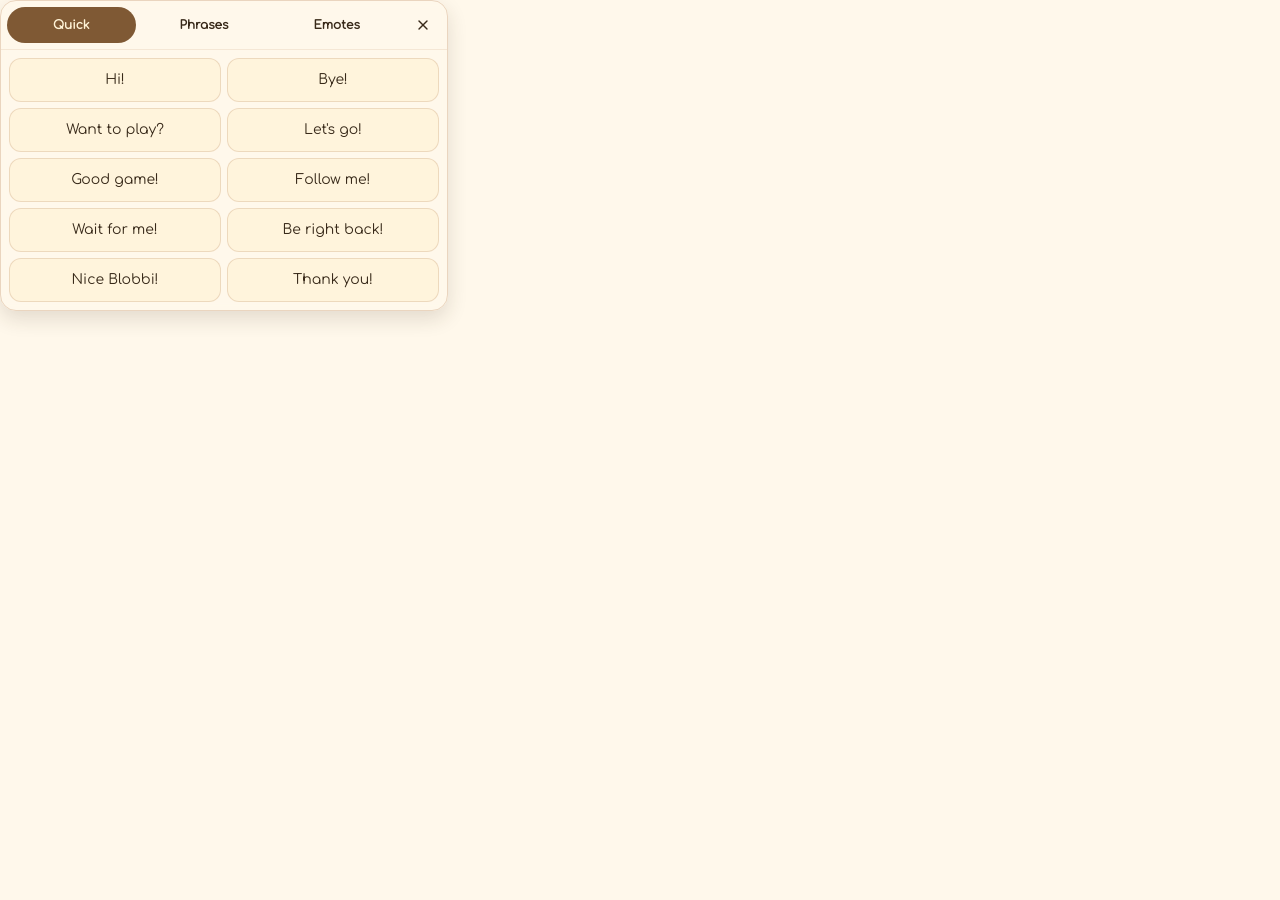
Test: the phrase builder › previews the sentence the receiver will reconstruct
The width and height of the screenshot is (1280, 900).
Step 1. Click the tab "Phrases" → (204, 25), box [140, 7, 268, 43]
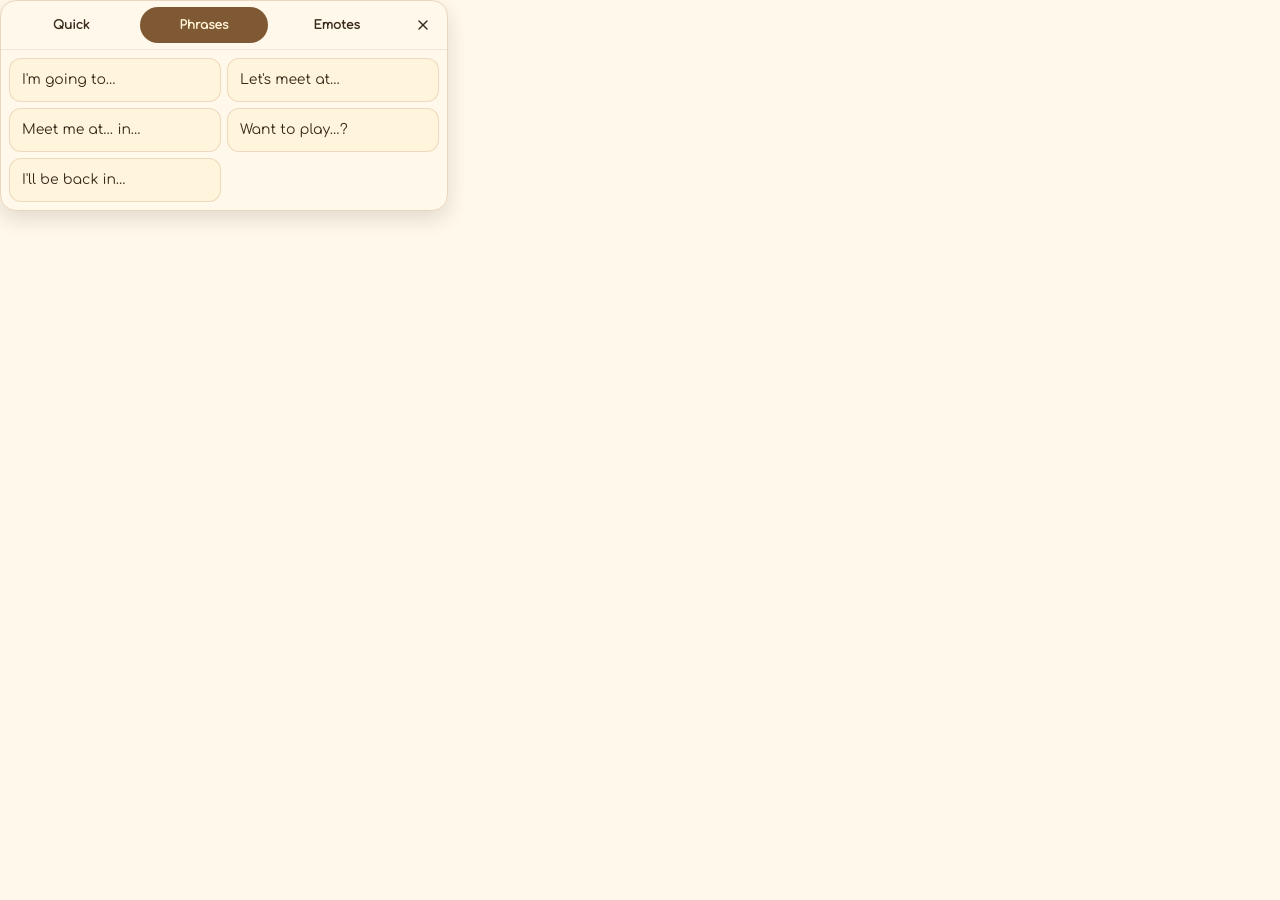
Step 2. Click the button "Meet me at… in…" → (115, 130), box [9, 108, 221, 152]
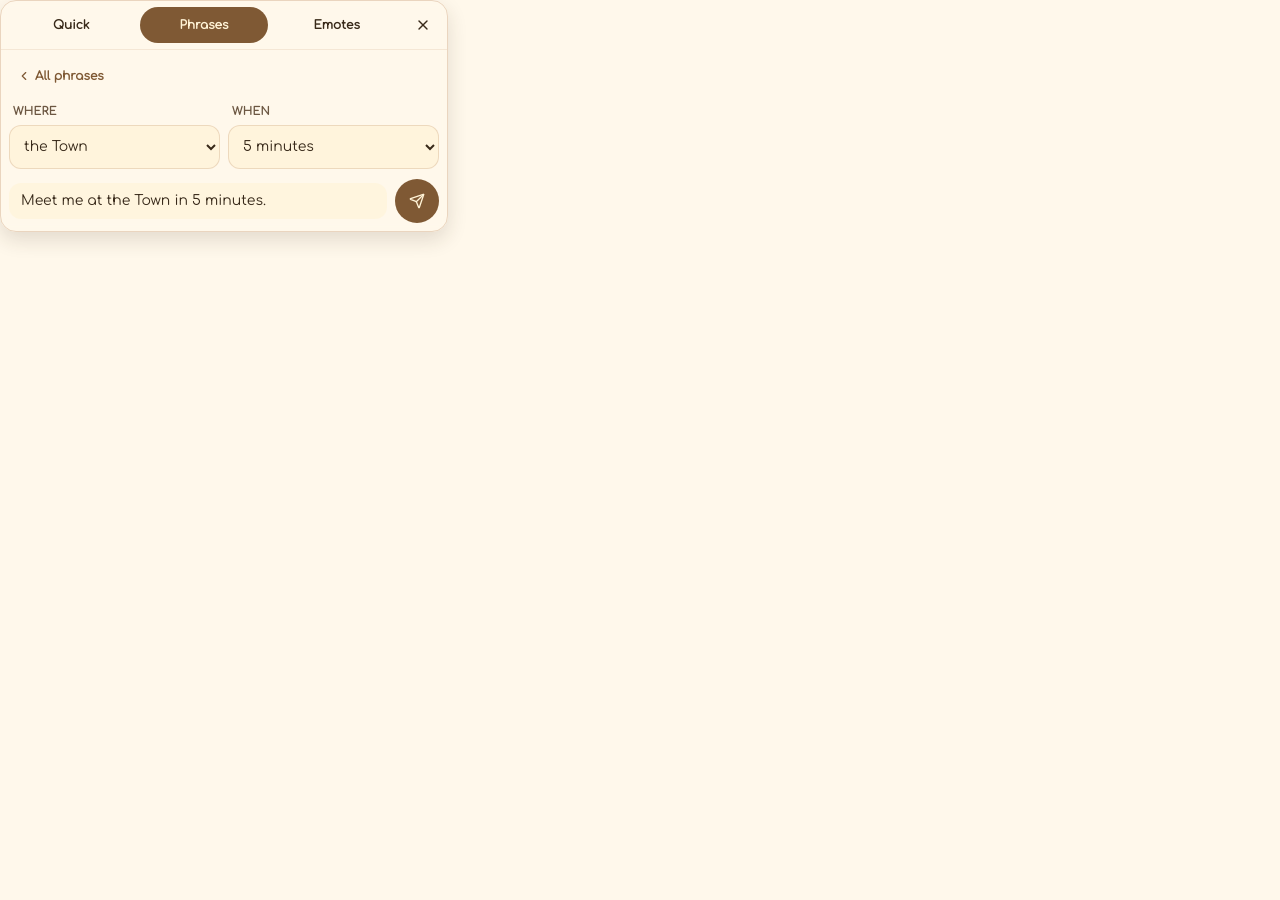
Step 3. Select "the Beach" in the dropdown labelled "Where" → (114, 147), box [9, 125, 220, 169]
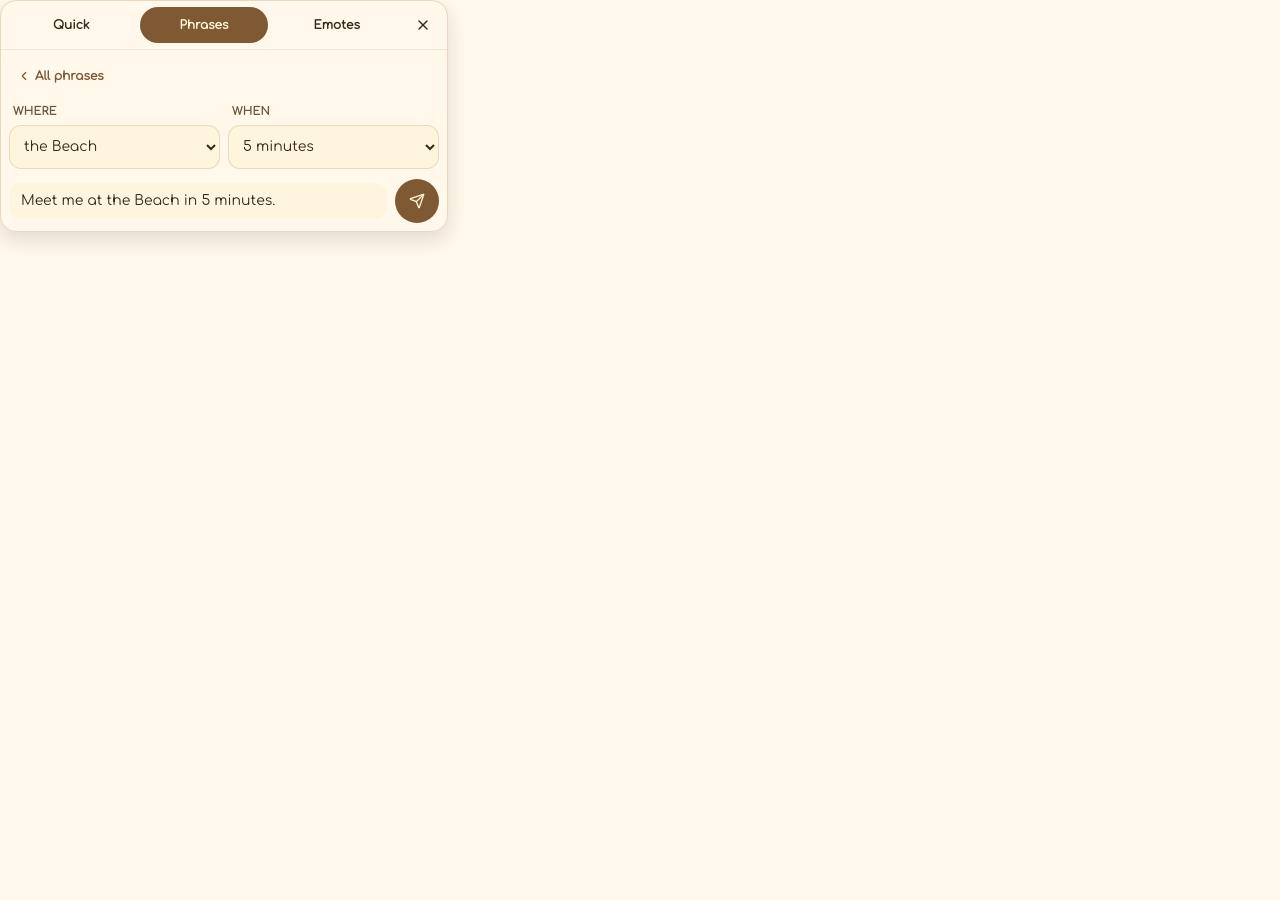
Step 4. Select "15 minutes" in the dropdown labelled "When" → (334, 147), box [228, 125, 439, 169]
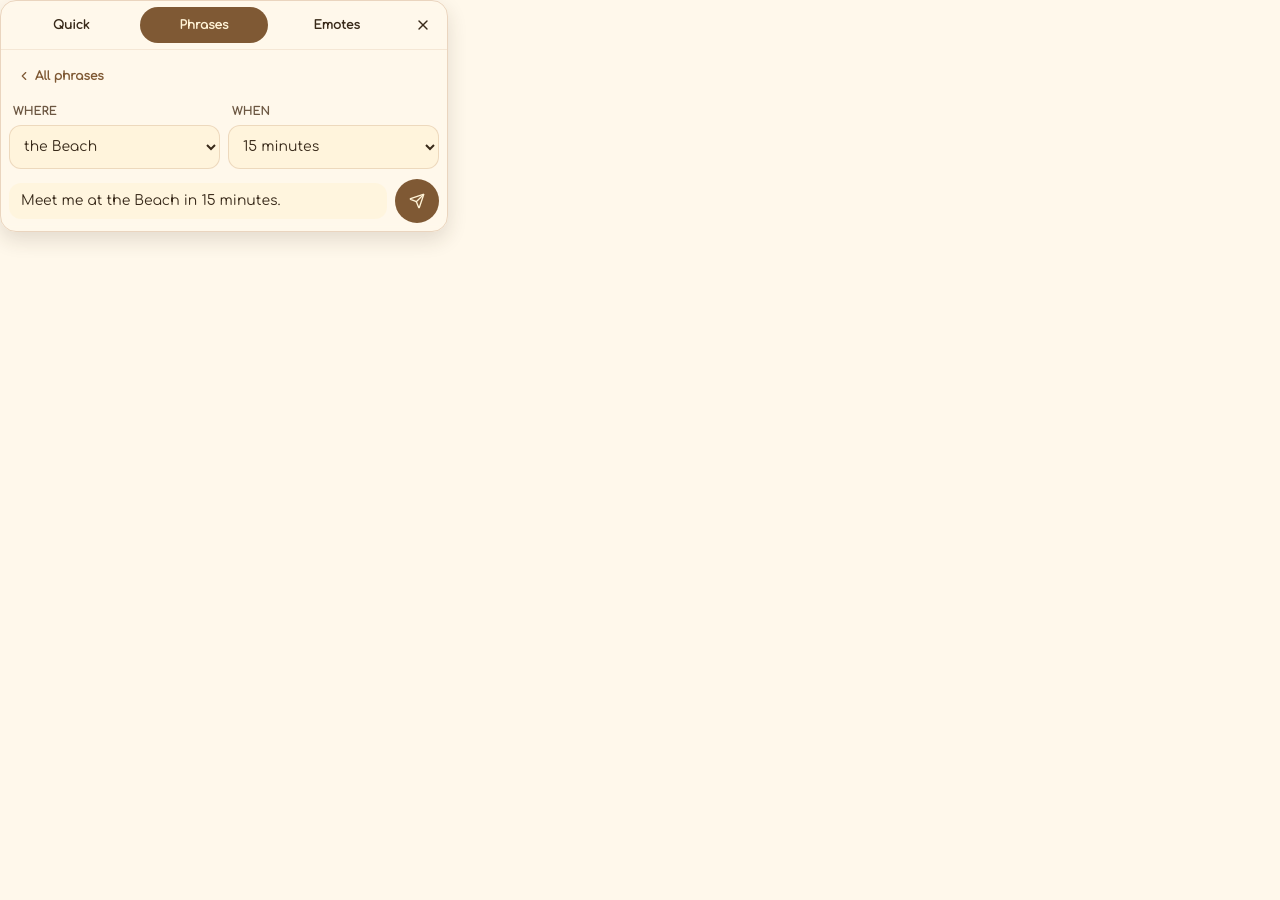
Expected: the text with test id "phrase-preview" reads "Meet me at the Beach in 15 minutes.", [21, 193, 281, 208]
